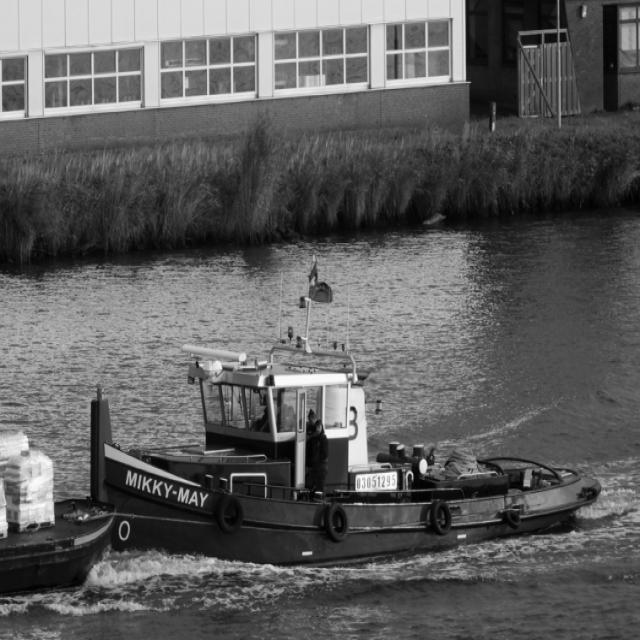tugboat: (81, 331, 606, 575)
